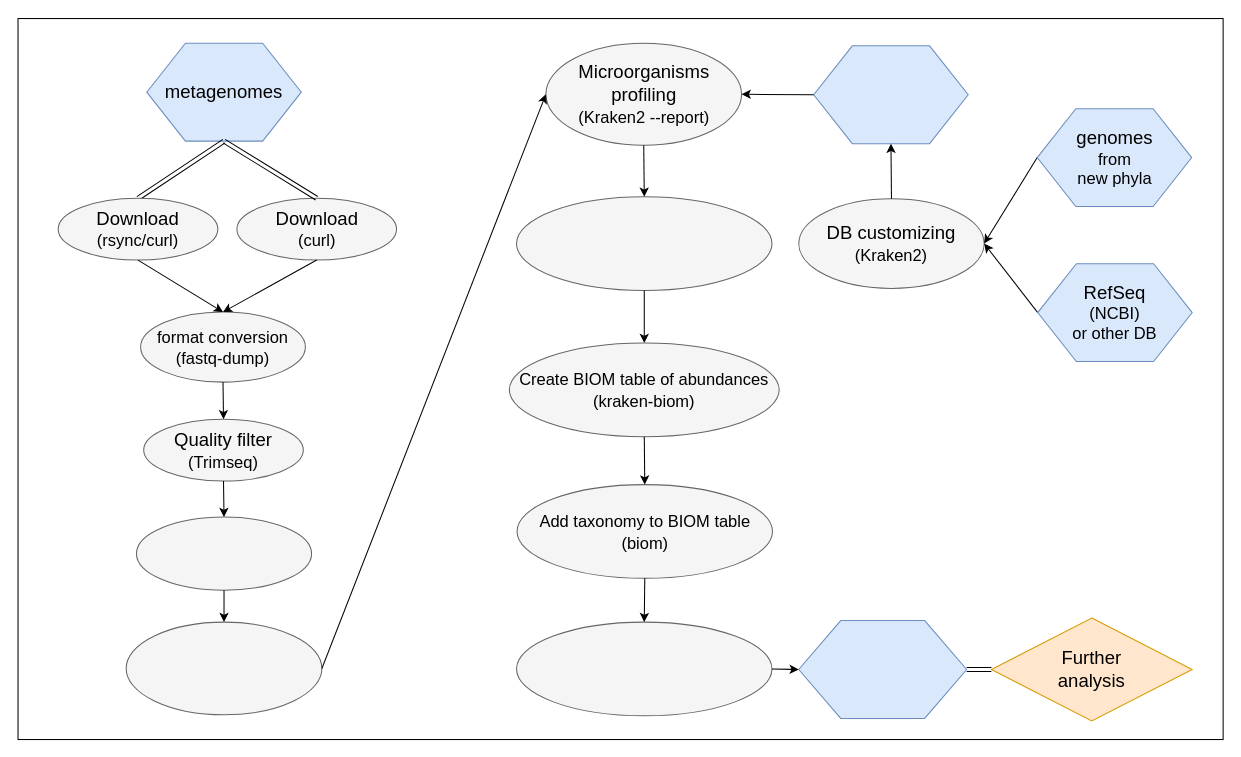
This 1241x757 diagram has some shape labels left out. The shapes that lost their labels are listed below. From the top down, each one's centre as x and y in pixels, then its label:
At point 890,94: "Customized DB".
At point 644,243: "Selecting Bacteria & Archaea (selectGroups.pl)".
At point 223,553: "Merge of paired-end data (Flash)".
At point 223,668: "Uniformity filter (size and N bases) (PRINSEQ)".
At point 644,668: "Create matrices for chosen rank (filterRank.pl --rank p)".
At point 882,669: "Classified organisms and abundances".
